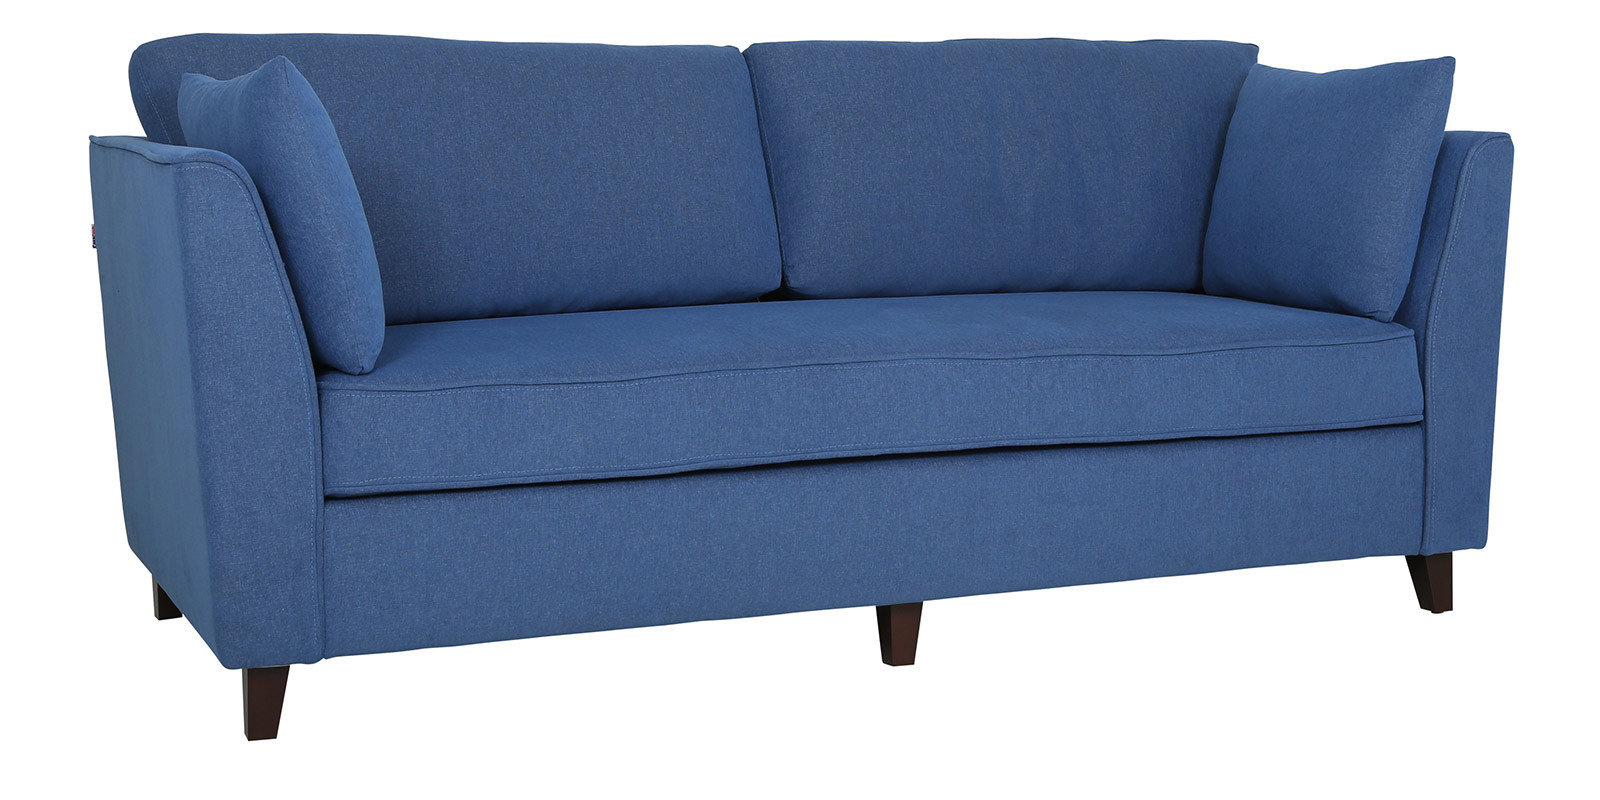Miranda Three Seater Sofa in Denim Blue Colour by CasaCraft: (87, 29, 1513, 742)
